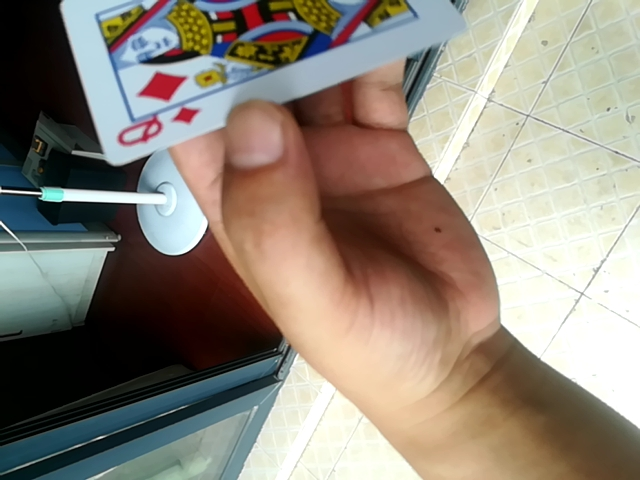fk q: (45, 0, 471, 163)
